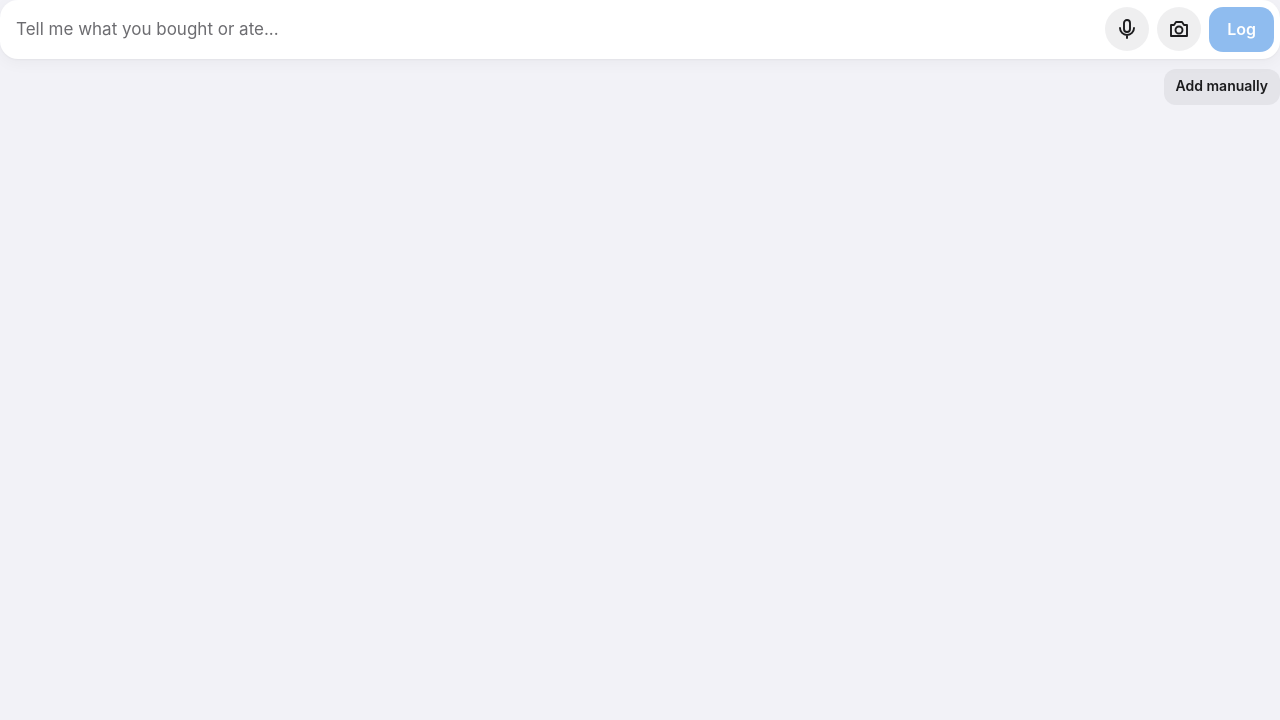
Scenario: review editor auto-finds macros online (mocked fetch) › says so when the food database cannot be reached
Click the button "Add manually". click: click(1222, 87)
box: x1=1164 y1=69 x2=1279 y2=105
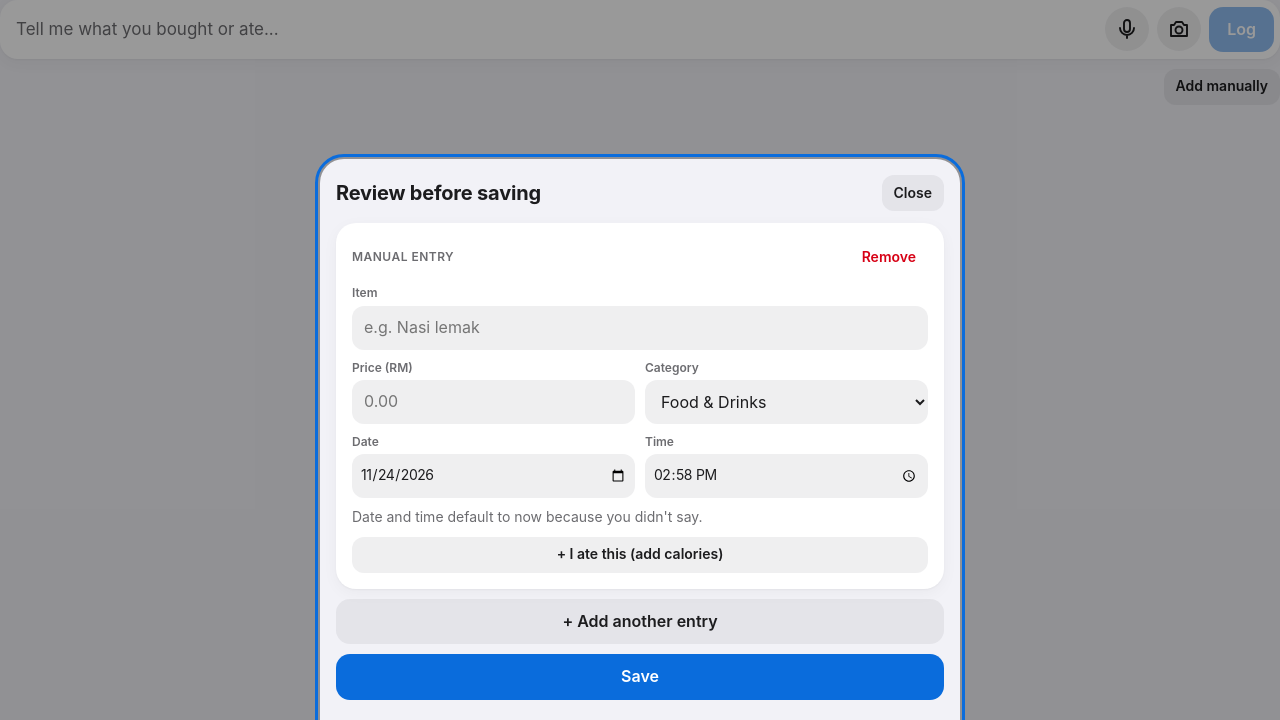
Type "Kerepek pisang kosong" into the field with placeholder "e.g. Nasi lemak". click: (640, 328)
box: x1=352 y1=306 x2=928 y2=350
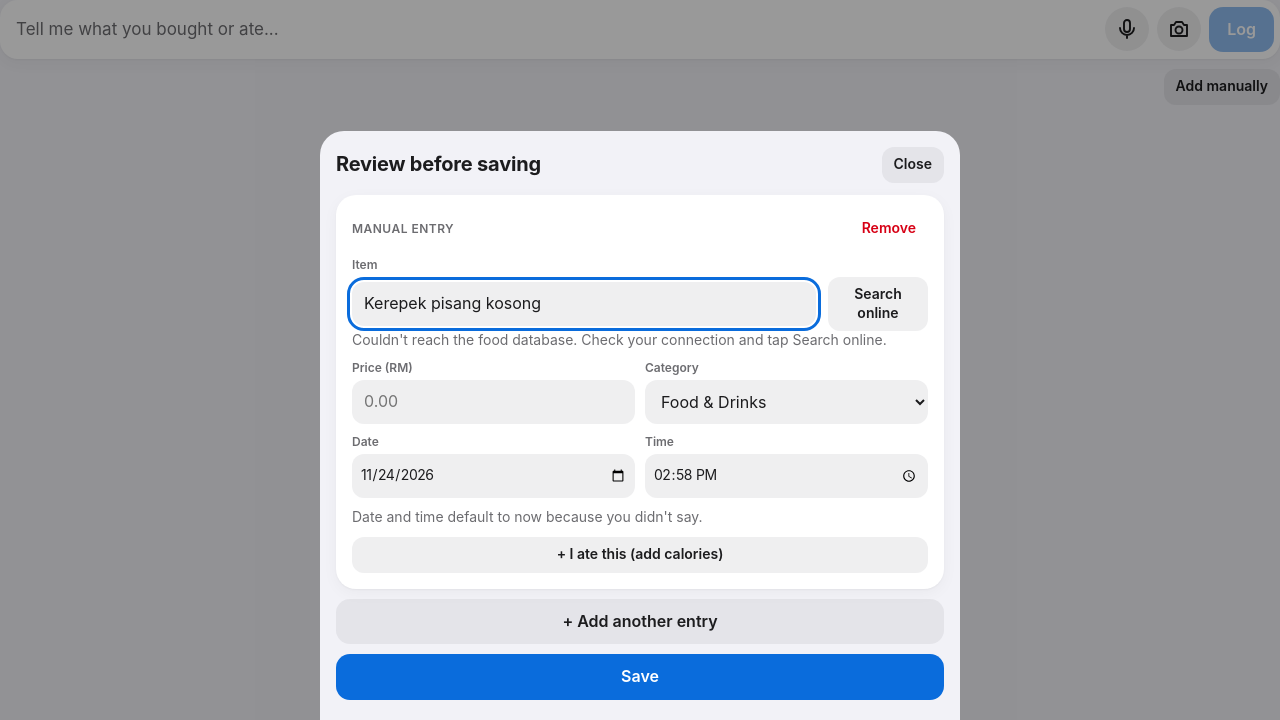
Expected: the text "Couldn't reach the food database. Check your connection and tap Search online." is shown, x1=352 y1=331 x2=928 y2=350
